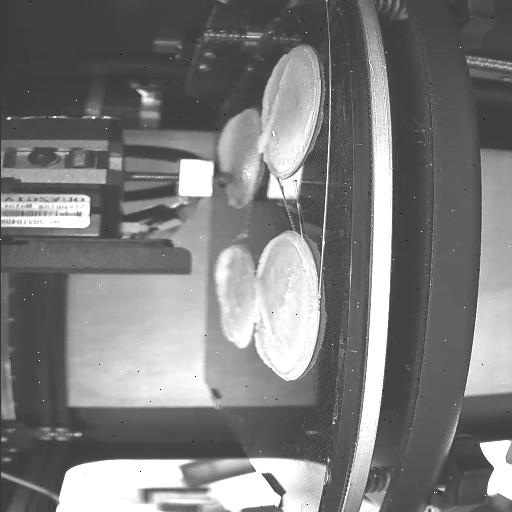over_extrusion: (255, 62, 295, 156), (254, 234, 302, 284), (212, 245, 242, 303), (218, 114, 241, 169), (254, 330, 276, 368), (216, 314, 234, 342)
